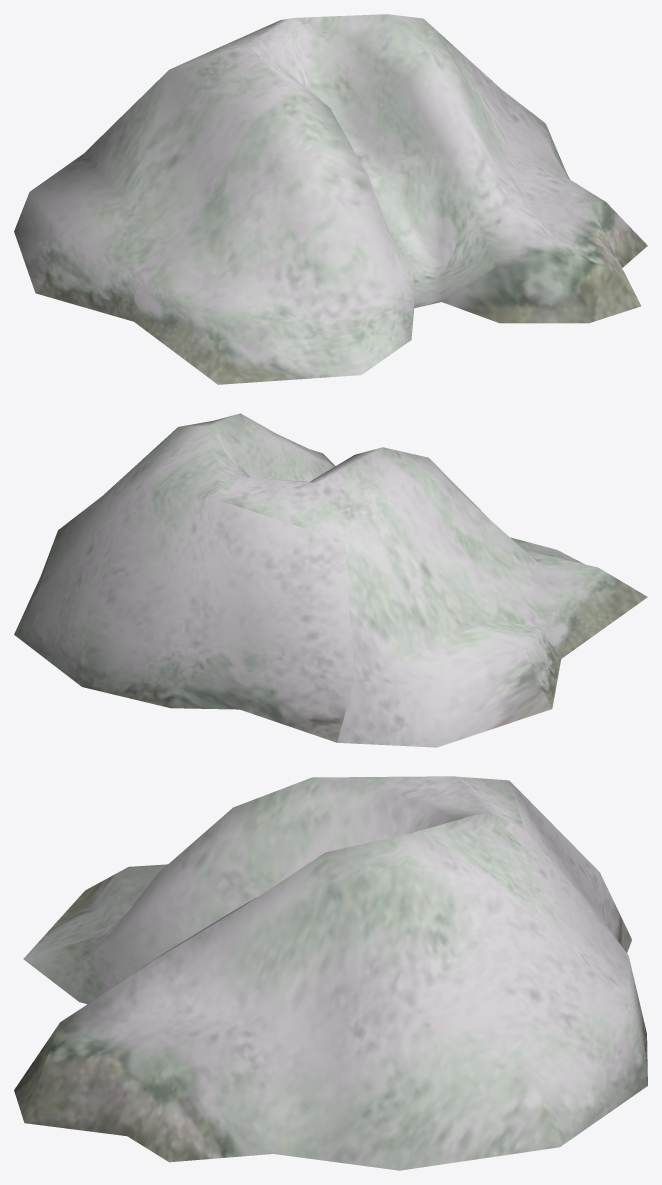
The model's file is general_obj_stone13.glb.
3 views of the same model, one above another, from view 1: azimuth 30°, elevation 25°; view 2: azimuth 150°, elevation 25°; view 3: azimuth 270°, elevation 25° (orthographic). The views are drawn at different scales.
Visible parts, largest first — view 1: Sphere01; view 2: Sphere01; view 3: Sphere01.
Part boxes in pixels (x1=…): Sphere01: x1=14, y1=14, x2=647, y2=384; Sphere01: x1=14, y1=413, x2=647, y2=747; Sphere01: x1=14, y1=776, x2=647, y2=1170.
Size of the model in its own units: 7.83 by 2.81 by 6.86.
1 material, 1 textured.
